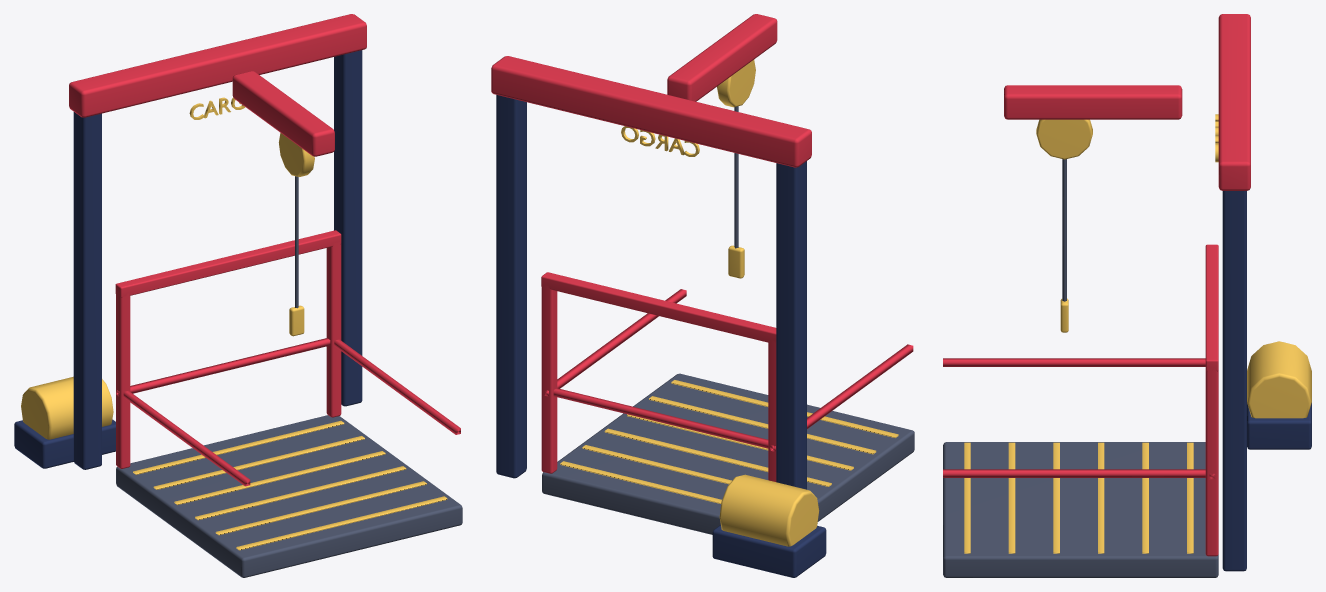
File: sky_cargo_lift.glb
The picture shows the model from 3 angles, left to right: view 1: azimuth 30°, elevation 25°; view 2: azimuth 150°, elevation 25°; view 3: azimuth 270°, elevation 25°; orthographic projection. The views are drawn at different scales.
Parts seen in each view (by area): view 1: CargoLift; view 2: CargoLift; view 3: CargoLift.
Part boxes in pixels (bbox=[...]): CargoLift: bbox=[14, 14, 462, 577]; CargoLift: bbox=[491, 14, 914, 577]; CargoLift: bbox=[943, 14, 1311, 577].
Bounding box in the file's own units: 4.8 × 5.9 × 4.55.
